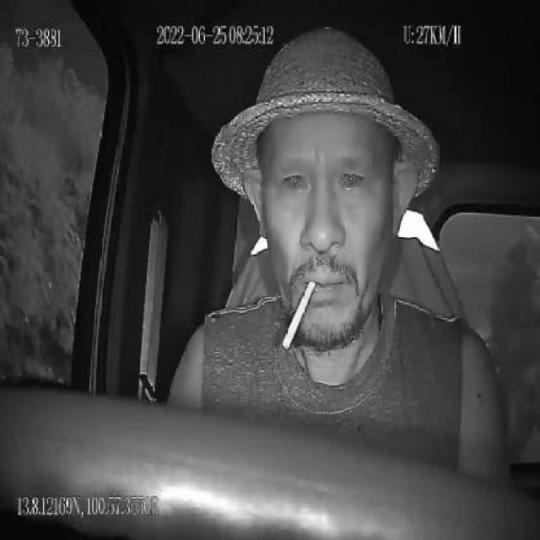smoking: (282, 280, 315, 350)
